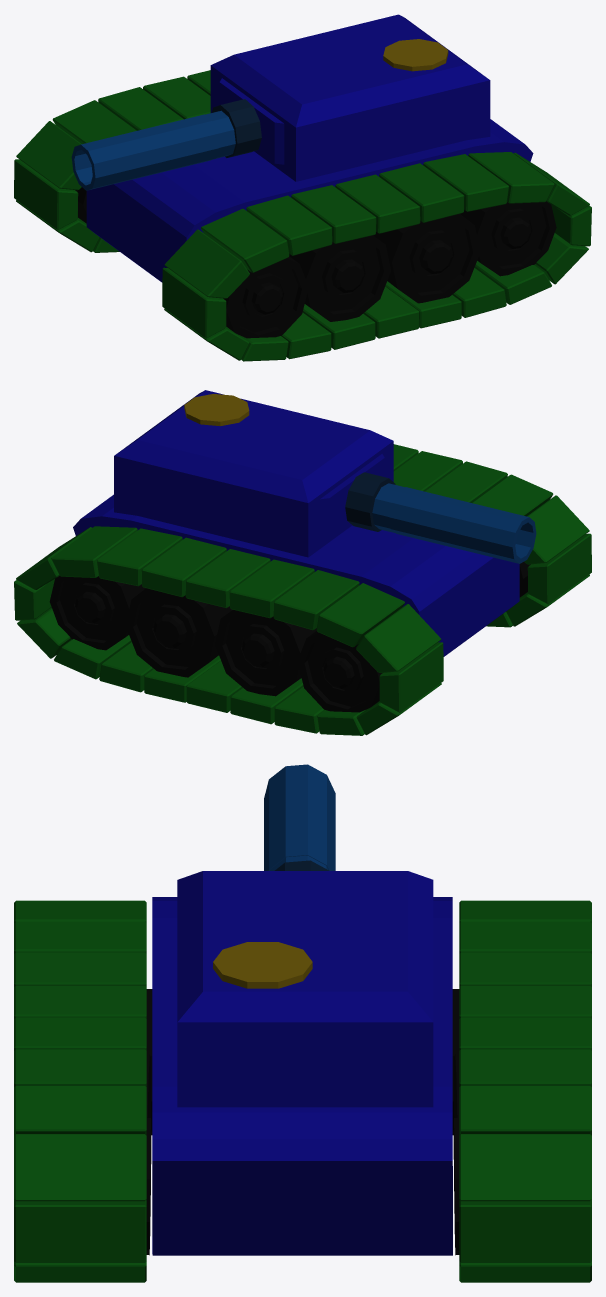
Rendered from tank.obj.
The picture shows the model from 3 angles, top to bottom: view 1: azimuth 30°, elevation 25°; view 2: azimuth 150°, elevation 25°; view 3: azimuth 270°, elevation 25°; orthographic projection. The views are drawn at different scales.
Parts seen in each view (by area): view 1: Cube, Cube.002, Cylinder, Cube.001, Cylinder.002, Cylinder.004, Cylinder.001; view 2: Cube, Cube.002, Cylinder, Cube.001, Cylinder.002, Cylinder.004, Cylinder.001; view 3: Cube, Cube.002, Cube.001, Cylinder.002, Cylinder.004, Cylinder.
Boxes of the visible parts, x1,y1,x2,y2 form: Cube: (14, 70, 591, 361); Cube.002: (210, 14, 490, 181); Cylinder: (75, 187, 556, 338); Cube.001: (86, 119, 533, 282); Cylinder.002: (71, 110, 235, 190); Cylinder.004: (383, 39, 448, 71); Cylinder.001: (211, 99, 261, 157); Cube: (14, 444, 591, 735); Cube.002: (114, 390, 393, 557); Cylinder: (49, 562, 530, 712); Cube.001: (73, 494, 519, 656); Cylinder.002: (372, 483, 536, 563); Cylinder.004: (184, 394, 249, 426); Cylinder.001: (345, 472, 395, 531); Cube: (14, 900, 591, 1282); Cube.002: (177, 871, 433, 1107); Cube.001: (152, 897, 452, 1255); Cylinder.002: (264, 764, 335, 870); Cylinder.004: (213, 942, 312, 988); Cylinder: (146, 989, 459, 1255).
Bounding box in the file's own units: 7.58 × 3.45 × 6.1.
